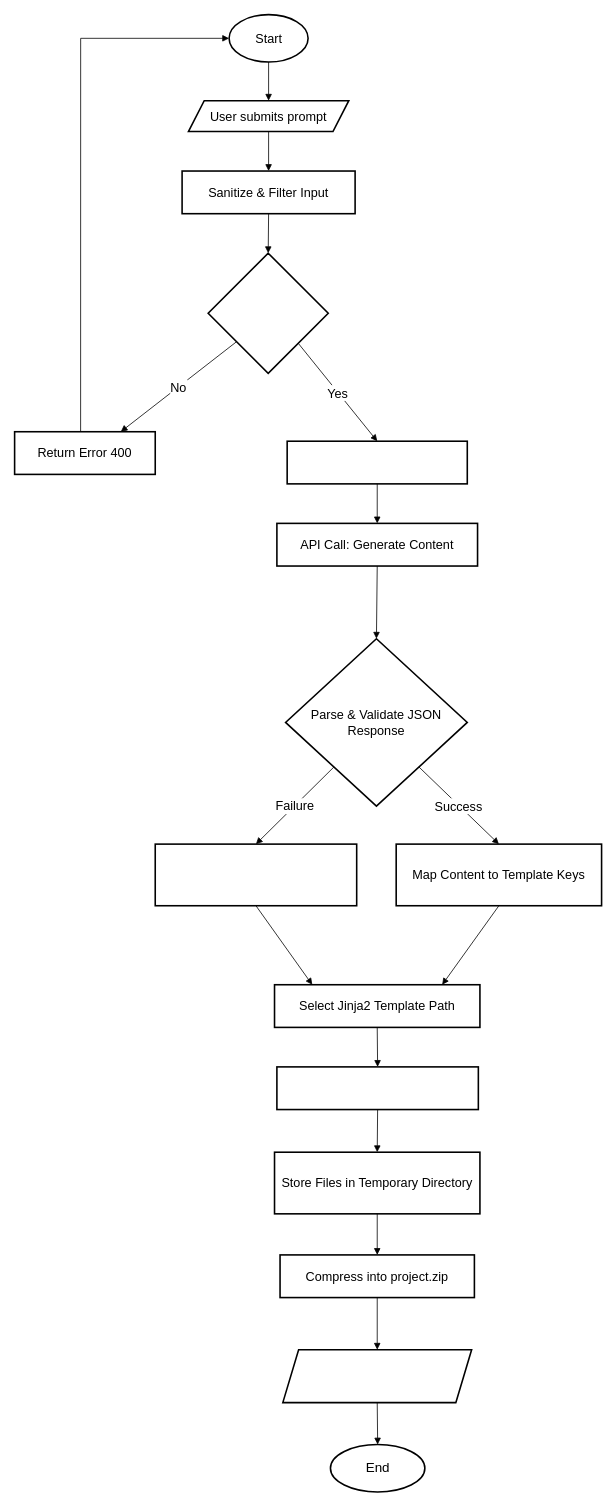
Image size: 615x1506. Some labels were removed from this diagram. Each missing label, with the centre of its shape:
API Call: Classify Intent: point 377,462
Inject Data & Render HTML: point 377,1088
Is Input Valid?: point 268,313
Load Default Theme Config: point 255,874
Provide Download Link: point 377,1376
